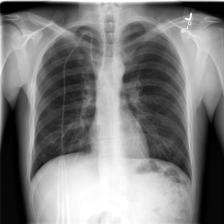normal: (25, 16, 194, 188)
